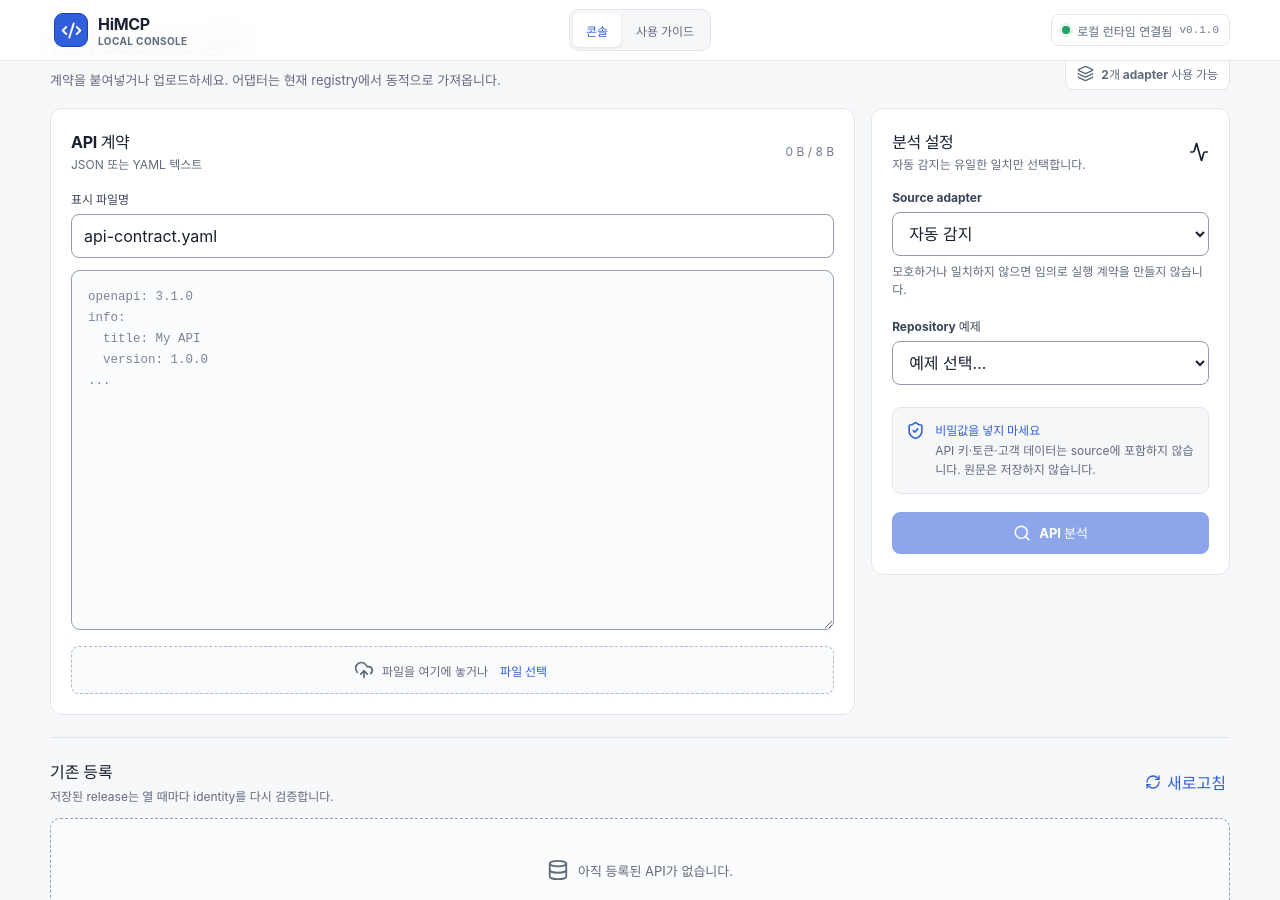
Test: local console client › blocks oversized source text and exposes the reason to assistive technology
(page scrolled)
Expected: the text "로컬 런타임 연결됨" is shown, [1077,22,1172,38]
In the text box named "JSON 또는 YAML API source": (453, 450) [71,270,834,630], type "openapi: 3.1.0"
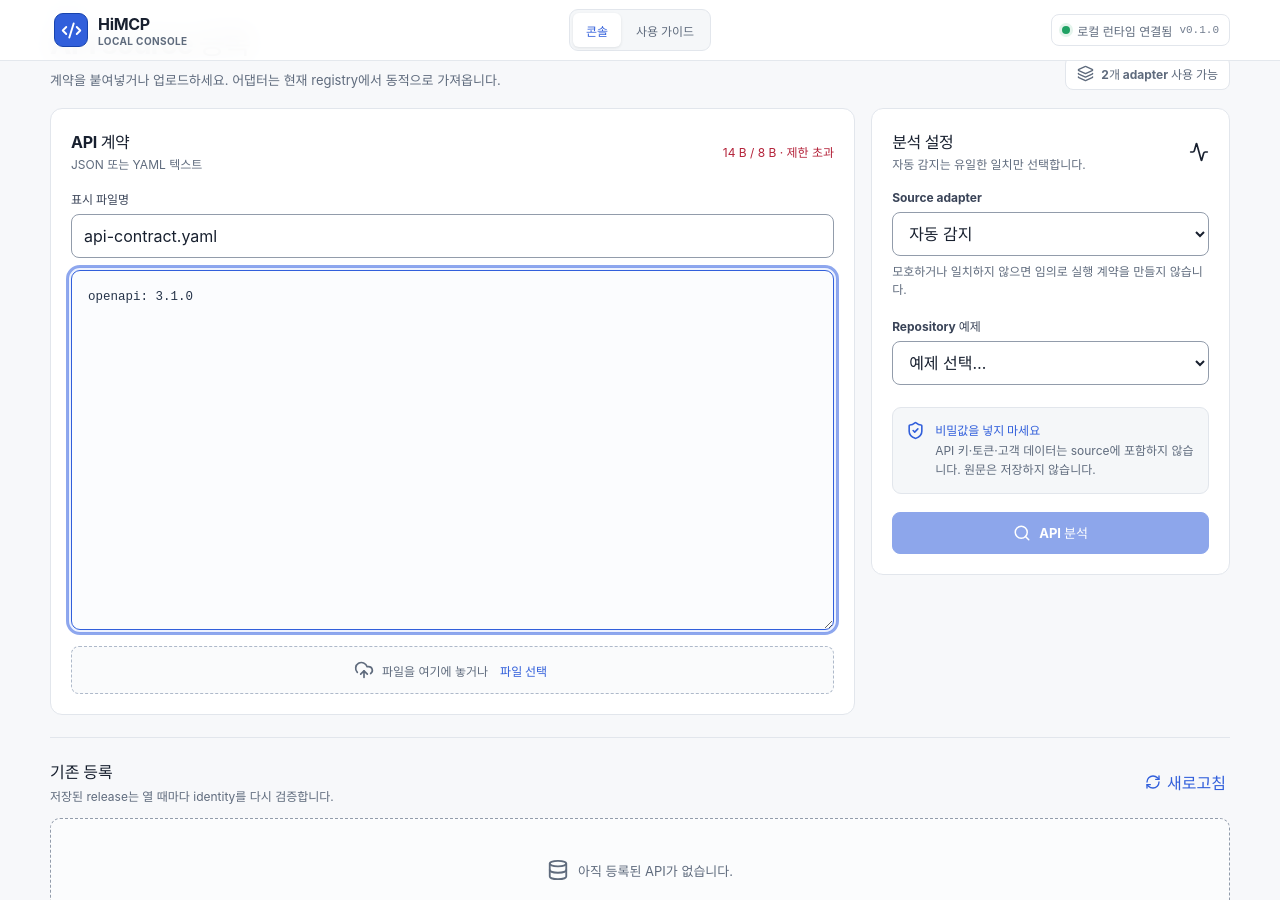
Expected: the button "API 분석" is disabled, [892,512,1209,554]
Expected: the text "14 B / 8 B · 제한 초과" is shown, [723,143,834,160]
